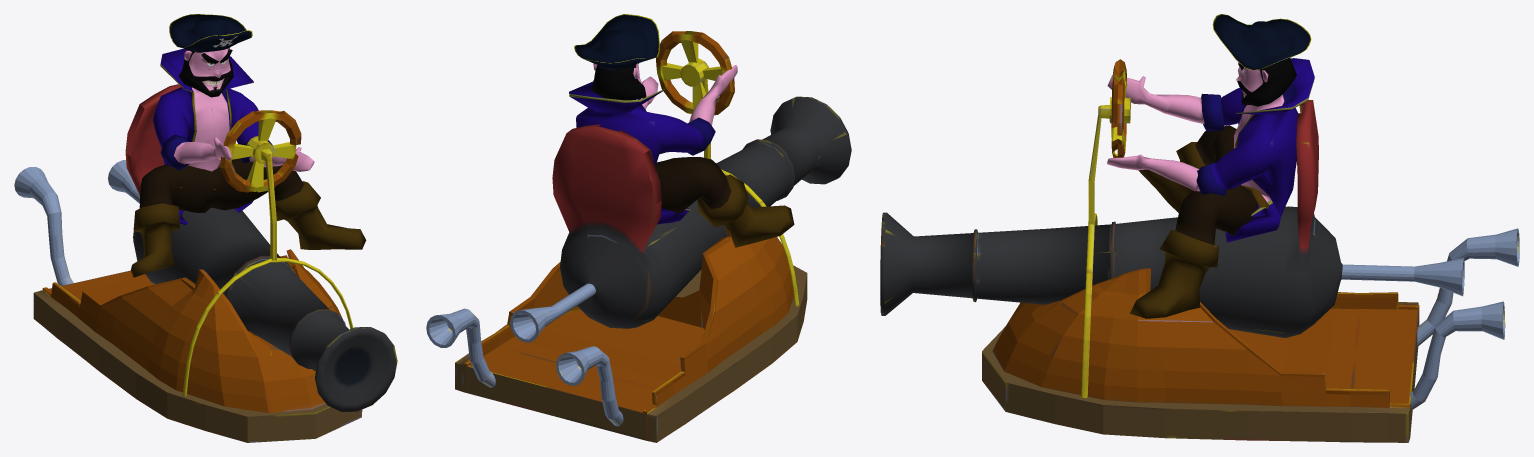
Rendered from pirataGiroDER_000316.obj.
3 views of the same model, side by side, from view 1: azimuth 30°, elevation 25°; view 2: azimuth 150°, elevation 25°; view 3: azimuth 270°, elevation 25° (orthographic). The views are drawn at different scales.
Parts seen in each view (by area): view 1: carro_pirata, Pirata_PirataH; view 2: carro_pirata, Pirata_PirataH; view 3: carro_pirata, Pirata_PirataH.
Part boxes in pixels (bbox=[...]): carro_pirata: bbox=[14, 84, 397, 442]; Pirata_PirataH: bbox=[130, 14, 366, 277]; carro_pirata: bbox=[426, 31, 851, 442]; Pirata_PirataH: bbox=[569, 14, 794, 247]; carro_pirata: bbox=[880, 59, 1519, 442]; Pirata_PirataH: bbox=[1107, 14, 1314, 318].
Size of the model in its own units: 5.65 by 7.68 by 12.1.
2 materials, 2 textured.
